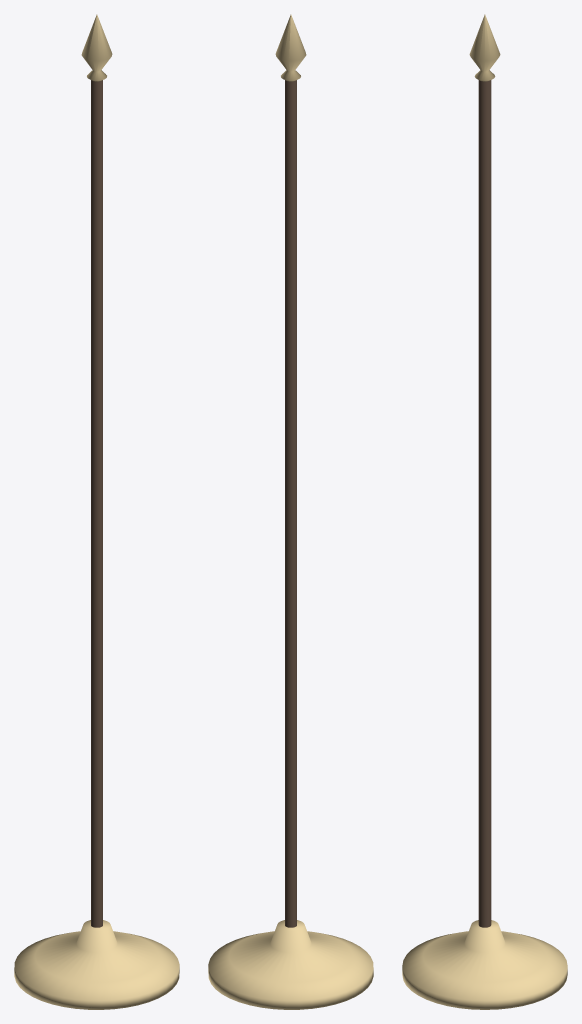
The model's file is flag_pole_in.glb.
3 renders of one model, left to right at view 1: azimuth 30°, elevation 25°; view 2: azimuth 150°, elevation 25°; view 3: azimuth 270°, elevation 25°, orthographic.
Visible parts, largest first — view 1: flag_pole_in; view 2: flag_pole_in; view 3: flag_pole_in.
Part boxes in pixels (x1,y1,x2,y2): flag_pole_in: [14, 14, 179, 1009]; flag_pole_in: [208, 14, 373, 1009]; flag_pole_in: [402, 14, 567, 1009].
Bounding box in the file's own units: 0.48 × 3.08 × 0.48.
